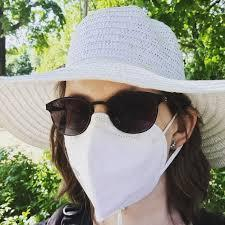cap: (21, 5, 225, 154)
mask: (56, 108, 176, 219)
sunglasses: (44, 84, 173, 139)
